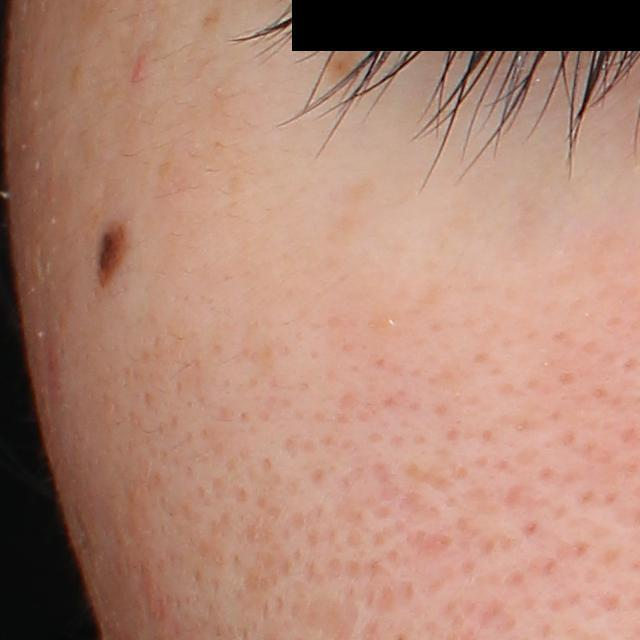melasma: (197, 4, 224, 33)
nevus: (97, 214, 133, 295)
papule: (130, 59, 147, 81)
